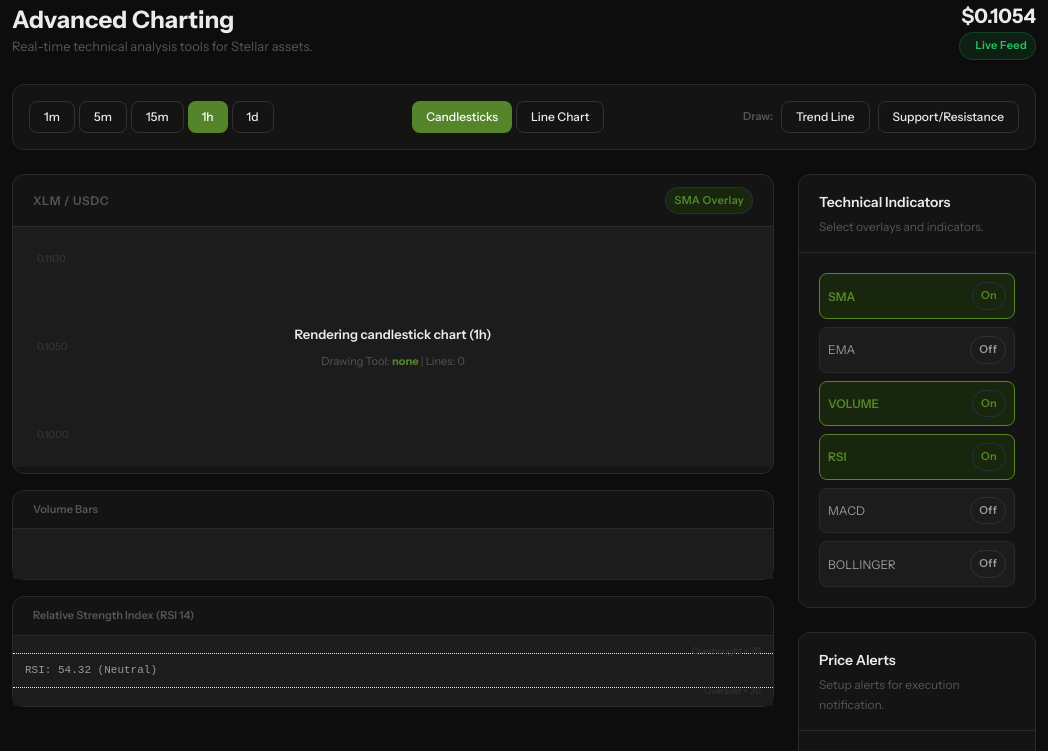
Scenario: ChartingScreen › allows selecting timeframe and toggling chart type
# Switch timeframe
Click the button "15m" at (157, 117), box [131,101,184,133]
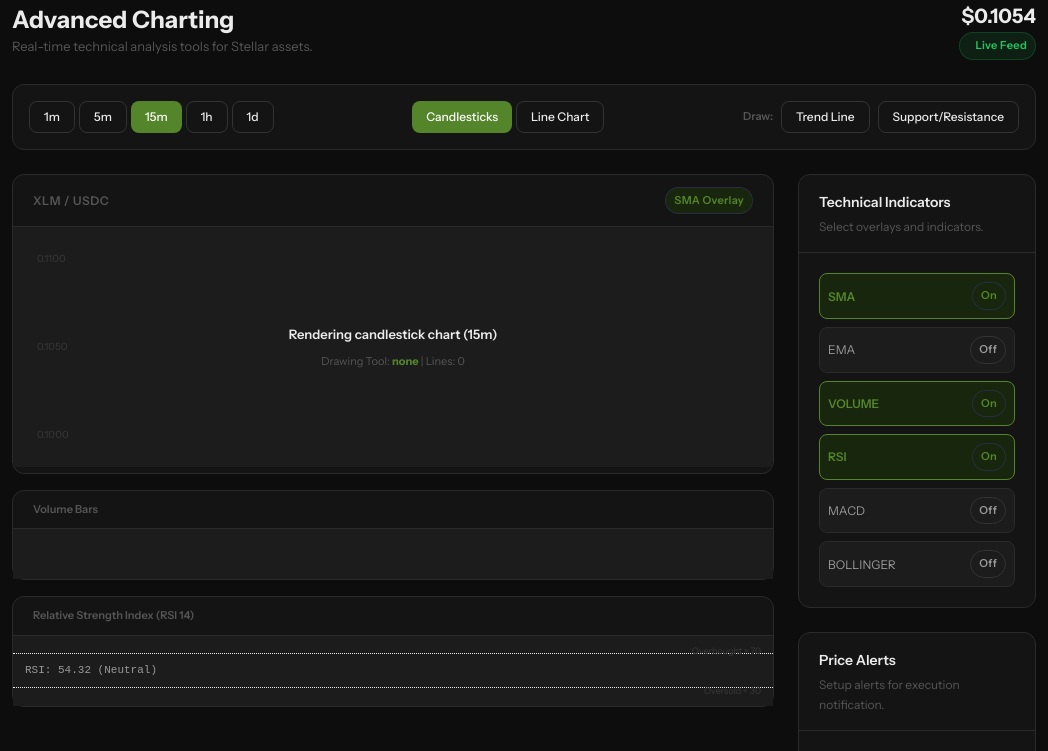
Result: the text "Rendering candlestick chart (15m)" is shown at [289,324,497,345]
# Toggle Chart Type
Click the button "Line Chart" at (560, 117), box [516,101,604,133]
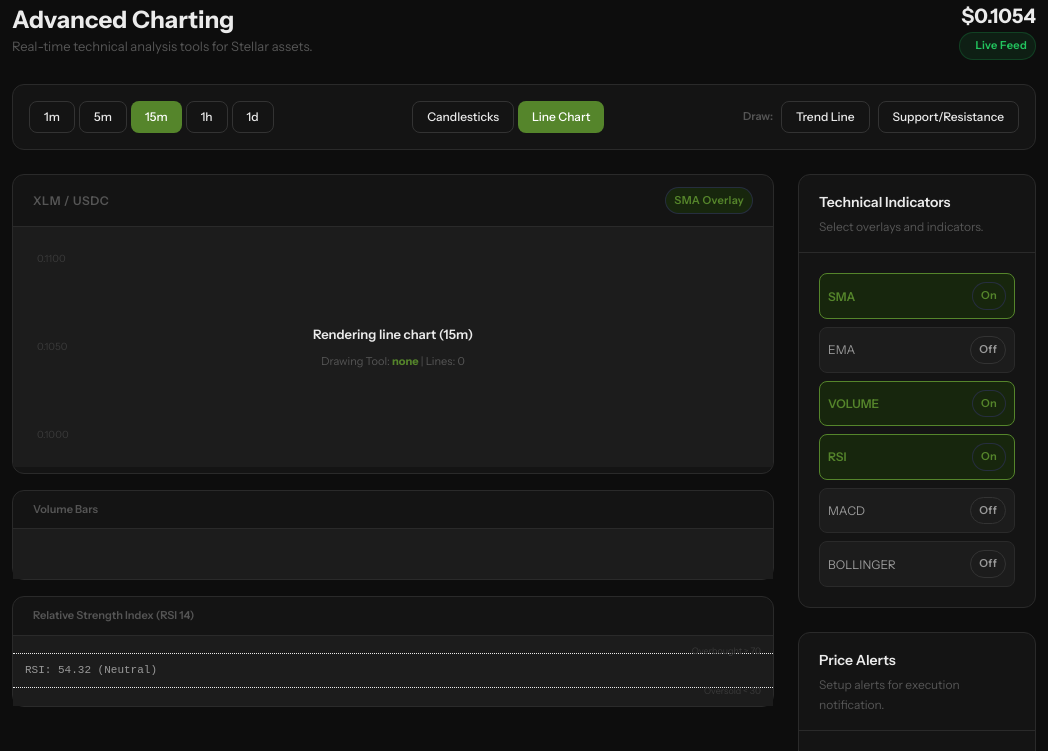
Result: the text "Rendering line chart (15m)" is shown at [313,324,473,345]
